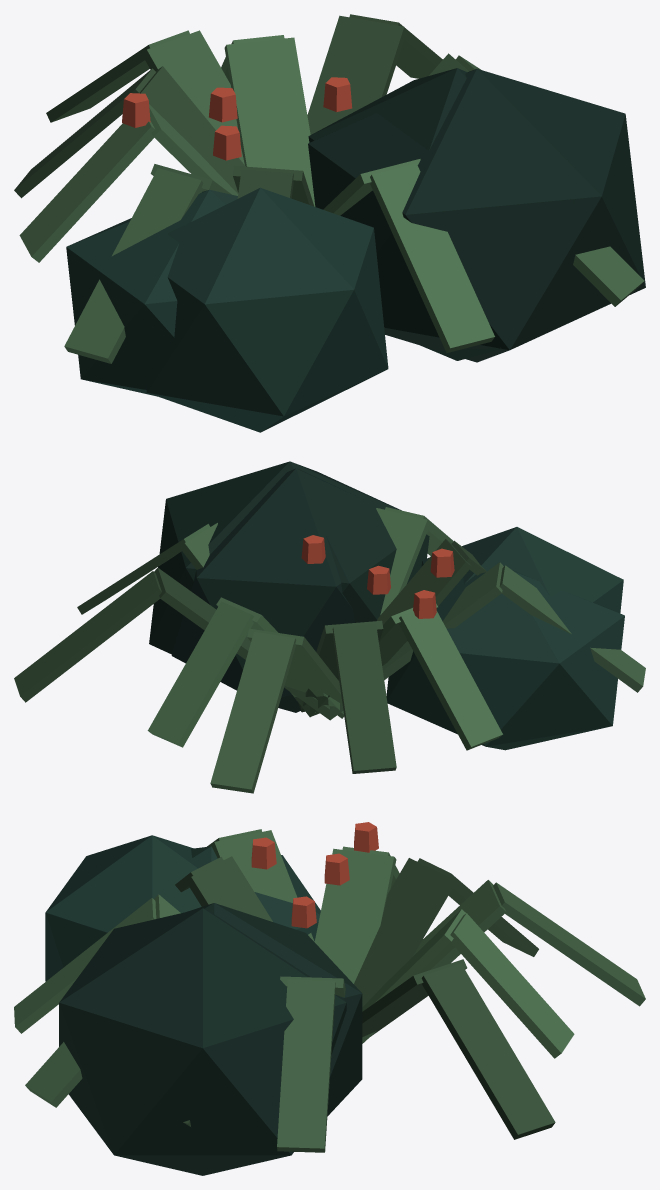
File: underbrush.glb
The picture shows the model from 3 angles, top to bottom: view 1: azimuth 30°, elevation 25°; view 2: azimuth 150°, elevation 25°; view 3: azimuth 270°, elevation 25°; orthographic projection. The views are drawn at different scales.
Visible parts, largest first — view 1: pine_d55, pine_d40, moss_d20, moss_d30, moss_d45, coal_l5; view 2: pine_d55, pine_d40, moss_d30, moss_d45, moss_d20, coal_l5; view 3: pine_d55, moss_d45, moss_d30, moss_d20, pine_d40, coal_l5.
Boxes of the visible parts, x1=… form: pine_d55: x1=308, y1=68, x2=645, y2=362; pine_d40: x1=66, y1=187, x2=388, y2=432; moss_d20: x1=19, y1=35, x2=494, y2=352; moss_d30: x1=46, y1=30, x2=644, y2=363; moss_d45: x1=14, y1=14, x2=442, y2=206; coal_l5: x1=122, y1=77, x2=352, y2=160; pine_d55: x1=149, y1=461, x2=429, y2=712; pine_d40: x1=386, y1=527, x2=624, y2=750; moss_d30: x1=77, y1=523, x2=645, y2=793; moss_d45: x1=14, y1=539, x2=486, y2=773; moss_d20: x1=147, y1=507, x2=502, y2=750; coal_l5: x1=301, y1=535, x2=454, y2=618; pine_d55: x1=59, y1=903, x2=362, y2=1175; moss_d45: x1=175, y1=856, x2=555, y2=1139; moss_d30: x1=25, y1=829, x2=645, y2=1152; moss_d20: x1=14, y1=846, x2=574, y2=1058; pine_d40: x1=45, y1=835, x2=320, y2=981; coal_l5: x1=251, y1=822, x2=378, y2=928.
Size of the model in its own units: 1.6 by 0.742 by 1.59.
